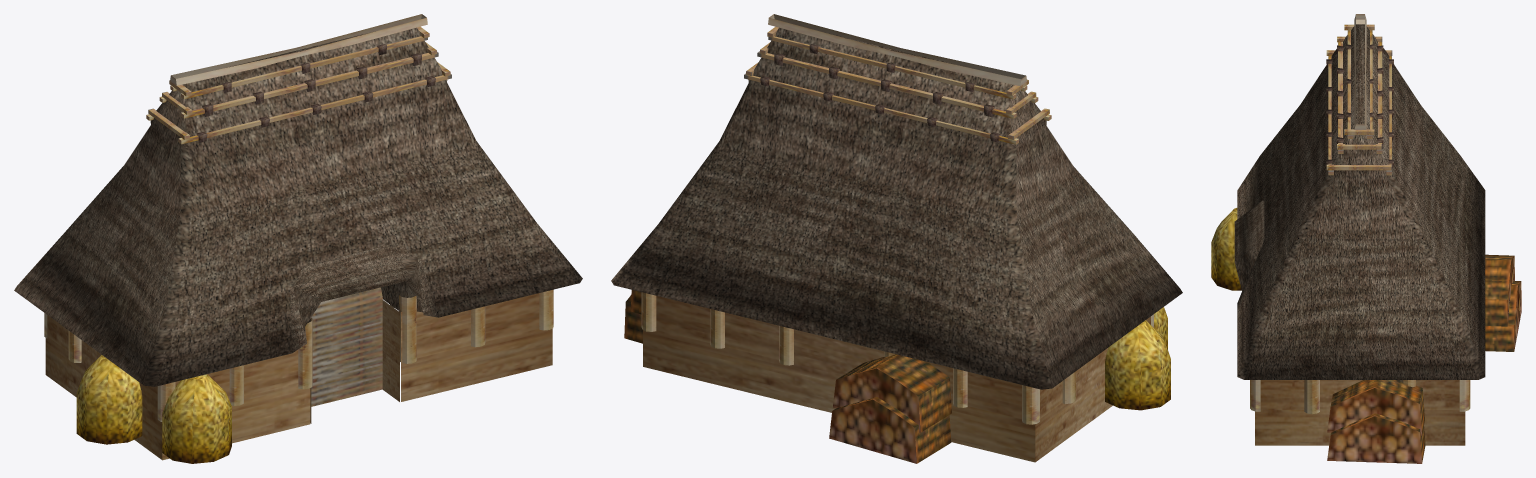
Rendered from yayoi_house_1.dae.
3 views of the same model, side by side, from view 1: azimuth 30°, elevation 25°; view 2: azimuth 150°, elevation 25°; view 3: azimuth 270°, elevation 25° (orthographic). The views are drawn at different scales.
Parts seen in each view (by area): view 1: house_1; view 2: house_1; view 3: house_1.
Boxes of the visible parts, left/top/right/bottom form: house_1: left=14, top=14, right=582, bottom=463; house_1: left=611, top=14, right=1182, bottom=463; house_1: left=1211, top=14, right=1521, bottom=463.
Bounding box in the file's own units: 16.01 × 9.97 × 10.31.
